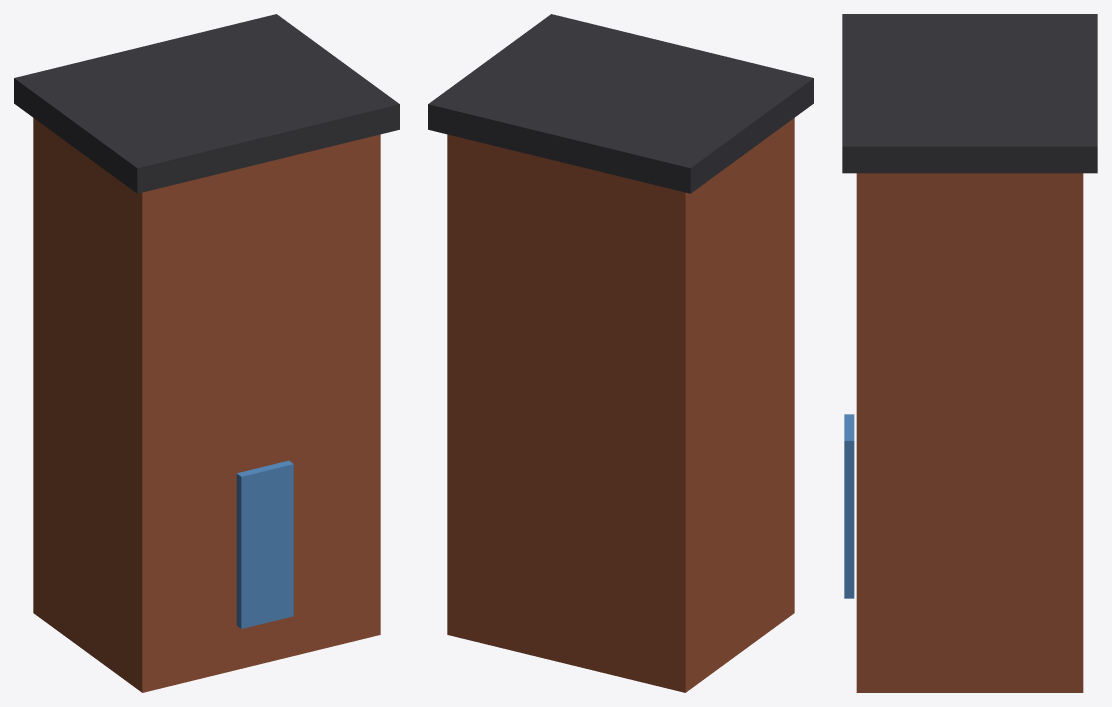
File: law_office.dae
3 renders of one model, left to right at view 1: azimuth 30°, elevation 25°; view 2: azimuth 150°, elevation 25°; view 3: azimuth 270°, elevation 25°, orthographic. The views are drawn at different scales.
Parts seen in each view (by area): view 1: main, roof, entrance; view 2: main, roof; view 3: main, roof, entrance.
Boxes of the visible parts, left/top/right/bottom form: main: left=33, top=118, right=380, bottom=692; roof: left=14, top=14, right=399, bottom=193; entrance: left=236, top=460, right=293, bottom=628; main: left=447, top=118, right=794, bottom=692; roof: left=428, top=14, right=813, bottom=193; main: left=856, top=173, right=1083, bottom=692; roof: left=842, top=14, right=1097, bottom=173; entrance: left=844, top=414, right=854, bottom=598.
Bounding box in the file's own units: 7.54 × 6.13 × 14.62.
